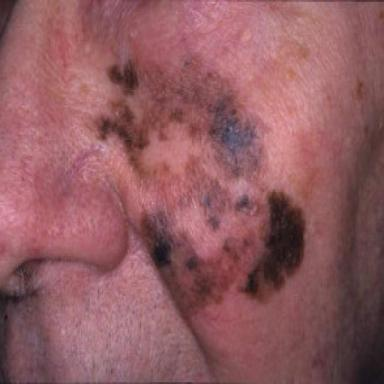Melanoma: (96, 58, 307, 315)
